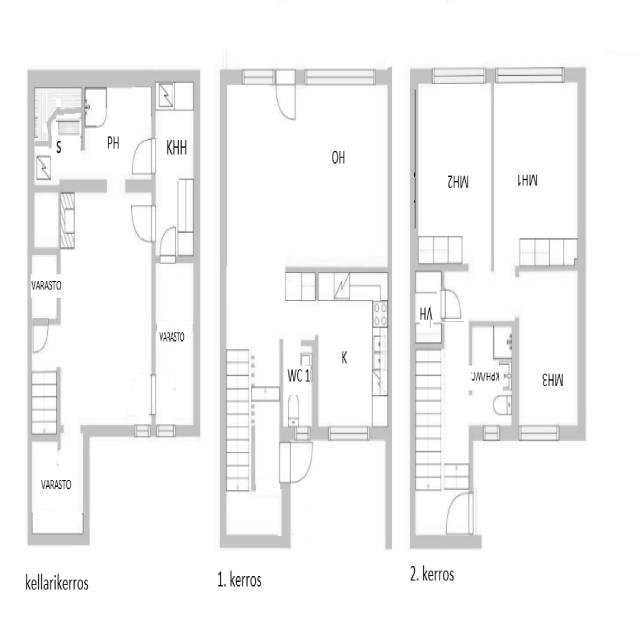door: (86, 88, 158, 186), (414, 268, 445, 349), (283, 427, 316, 489), (442, 488, 477, 537), (273, 64, 299, 128), (128, 133, 159, 180), (128, 199, 158, 247), (440, 284, 465, 324), (158, 223, 178, 266), (30, 319, 51, 357)
window: (492, 60, 570, 92), (304, 62, 380, 92), (428, 60, 491, 92), (324, 420, 374, 448), (518, 420, 564, 448), (239, 64, 275, 90), (152, 417, 180, 445), (479, 422, 503, 446), (132, 418, 154, 444)
zone: (223, 80, 392, 268), (60, 183, 154, 432), (492, 79, 580, 270), (224, 265, 283, 543), (415, 78, 492, 268), (316, 269, 390, 437), (516, 269, 580, 432), (155, 76, 196, 255), (84, 86, 153, 188), (153, 257, 194, 428), (30, 435, 86, 541), (33, 84, 85, 187), (469, 324, 515, 434), (282, 344, 313, 432), (280, 270, 316, 344), (413, 268, 444, 350), (31, 251, 58, 325), (31, 190, 61, 252)
